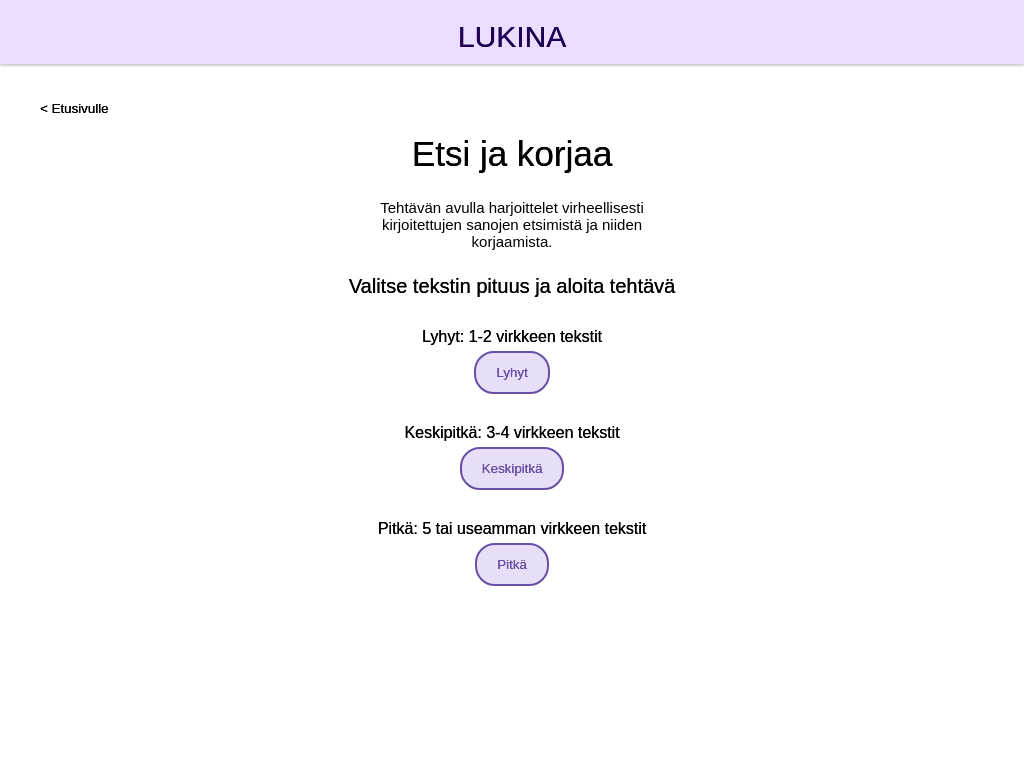
Test: Press button check correct answers › not all correct answers selected
This screenshot has width=1024, height=768.
What coordinates should you click on to do the following:
click the button with class "DifButton" showing "Lyhyt"
I would click on:
 (512, 373)
Its box is x1=474 y1=351 x2=549 y2=394.
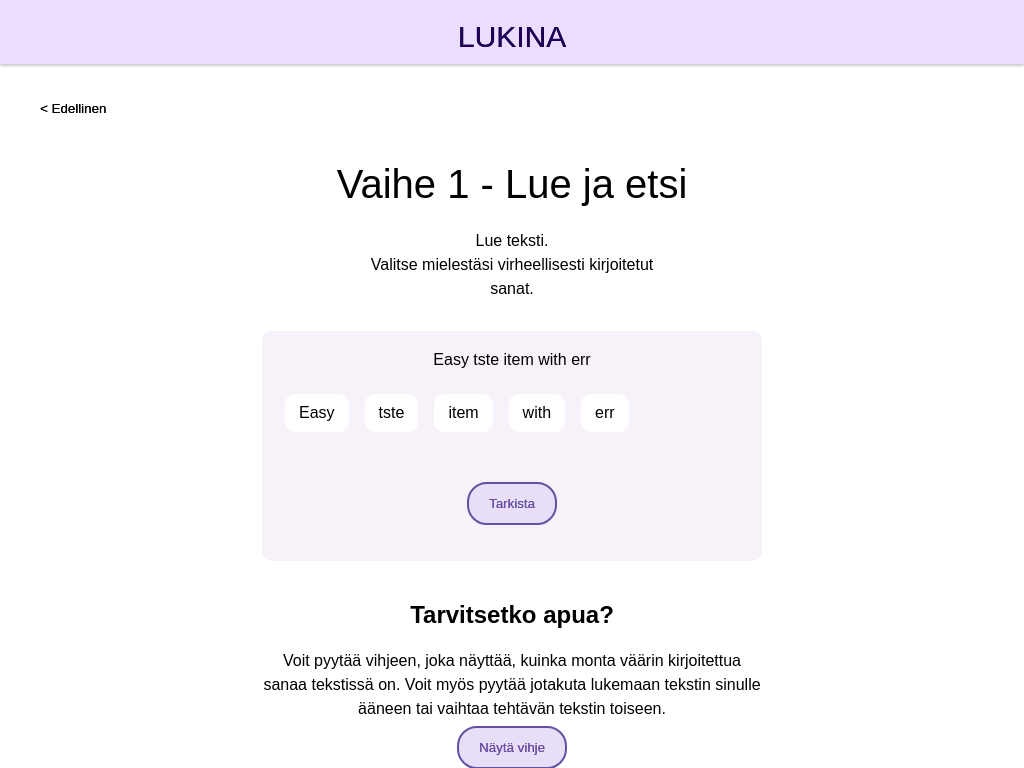
Now the checkbox with class "word-container" reads "Easy"
Now the checkbox with class "word-container" reads "err", box x1=581 y1=394 x2=629 y2=432
What coordinates should you click on to do the following:
click the checkbox "Easy"
I would click on:
 (317, 413)
Its box is x1=285 y1=394 x2=349 y2=432.
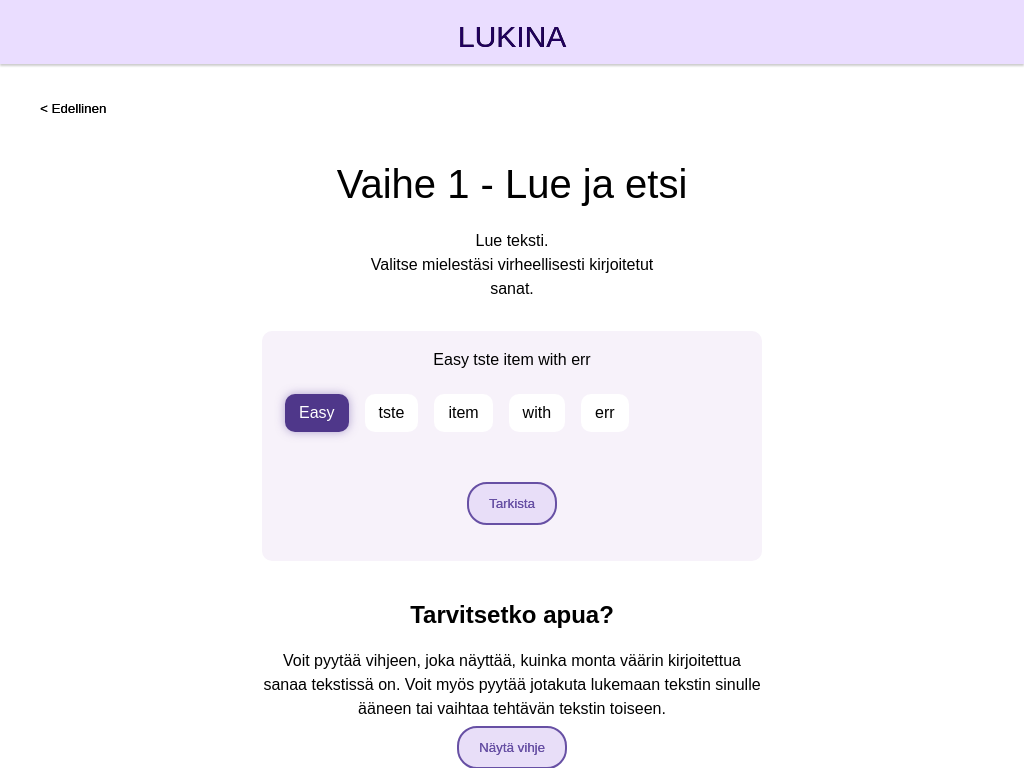
Now the checkbox "Easy" has class "is-selected", box x1=285 y1=394 x2=349 y2=432
What coordinates should you click on to do the following:
click the checkbox "err"
I would click on:
 (605, 413)
Its box is x1=581 y1=394 x2=629 y2=432.
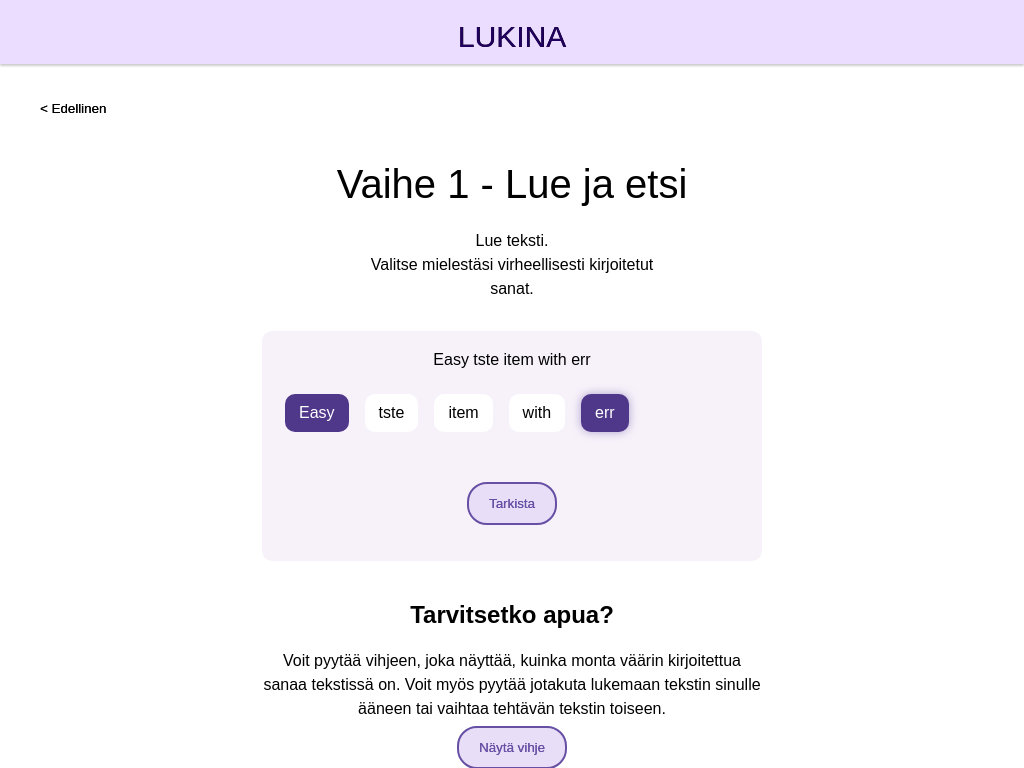
Now the checkbox "err" has class "is-selected", box x1=581 y1=394 x2=629 y2=432
What coordinates should you click on to do the following:
click the button "Tarkista"
I would click on:
 (512, 504)
Its box is x1=467 y1=482 x2=557 y2=525.
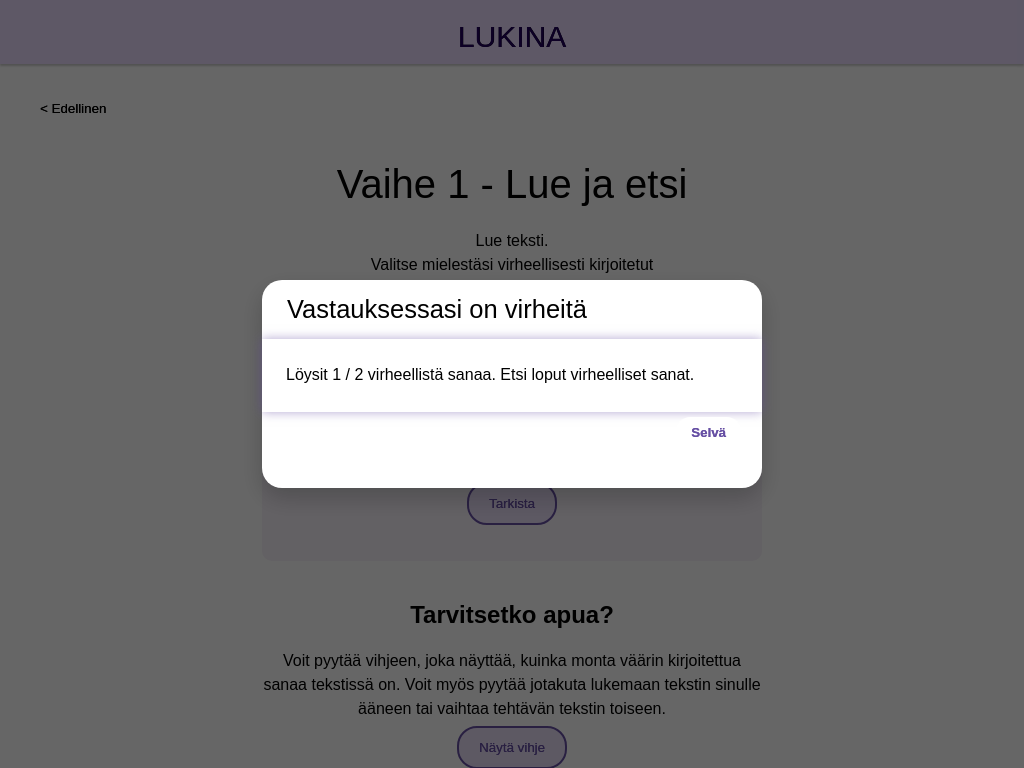
Now the element with class "modal-container" is shown, box x1=262 y1=280 x2=762 y2=488
Now the text with class "modal-container" shows "Löysit 1 / 2 virheellistä sanaa. Etsi loput virheelliset sanat", box x1=286 y1=366 x2=694 y2=383
What coordinates should you click on to do the following:
click the button with class "modal-close-btn"
I would click on:
 (709, 433)
Its box is x1=675 y1=417 x2=742 y2=448.
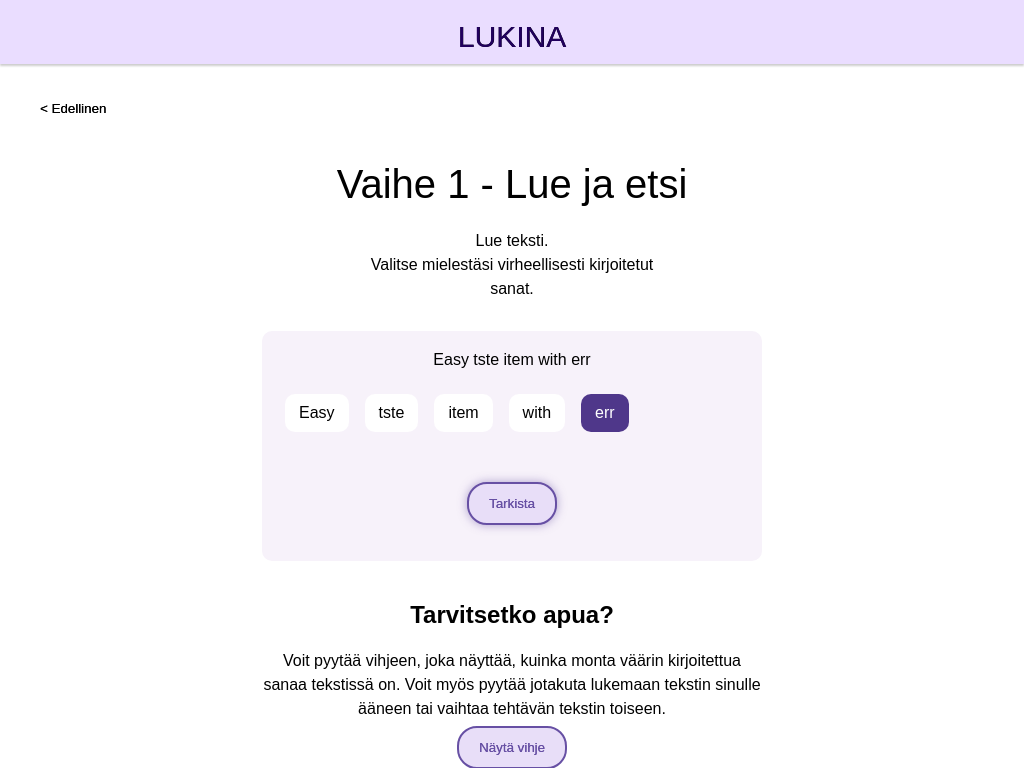
Now the element with class "modal-container" is gone
